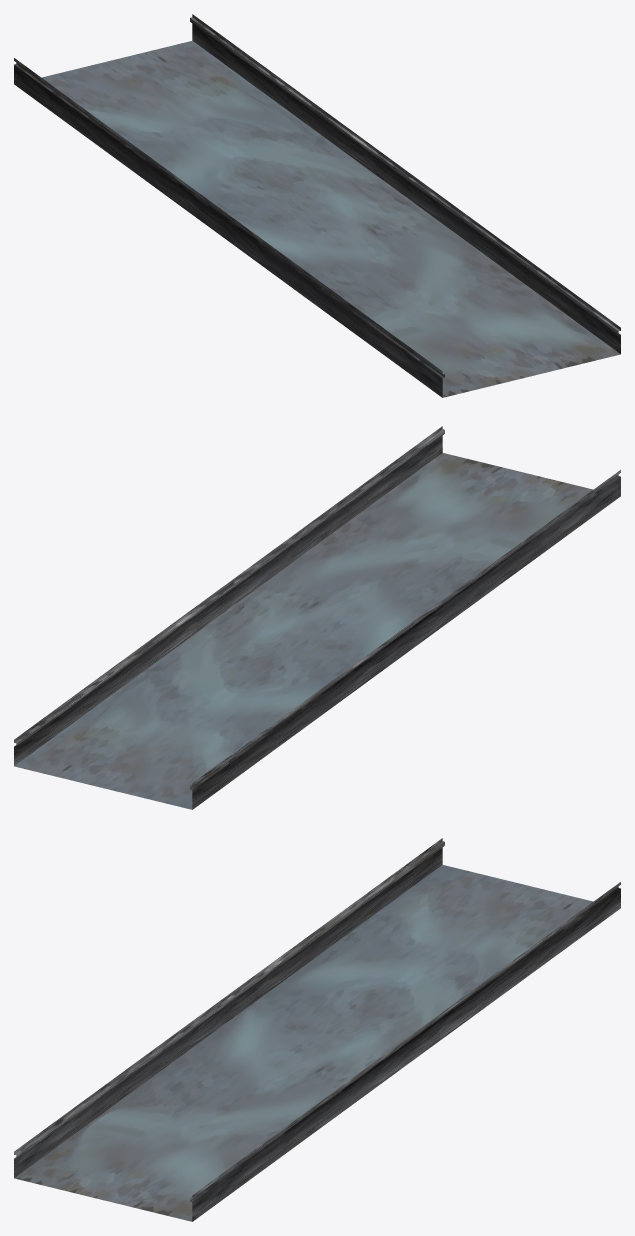
File: river.fbx
3 views of the same model, one above another, from view 1: azimuth 30°, elevation 25°; view 2: azimuth 150°, elevation 25°; view 3: azimuth 330°, elevation 25° (orthographic).
Parts seen in each view (by area): view 1: river; view 2: river; view 3: river.
Boxes of the visible parts, x1,y1,x2,y2 form: river: (14, 14, 620, 397); river: (14, 426, 620, 809); river: (14, 838, 620, 1221).
Bounding box in the file's own units: 849 × 121 × 3531.
Materials: 1 (1 with a texture image).
